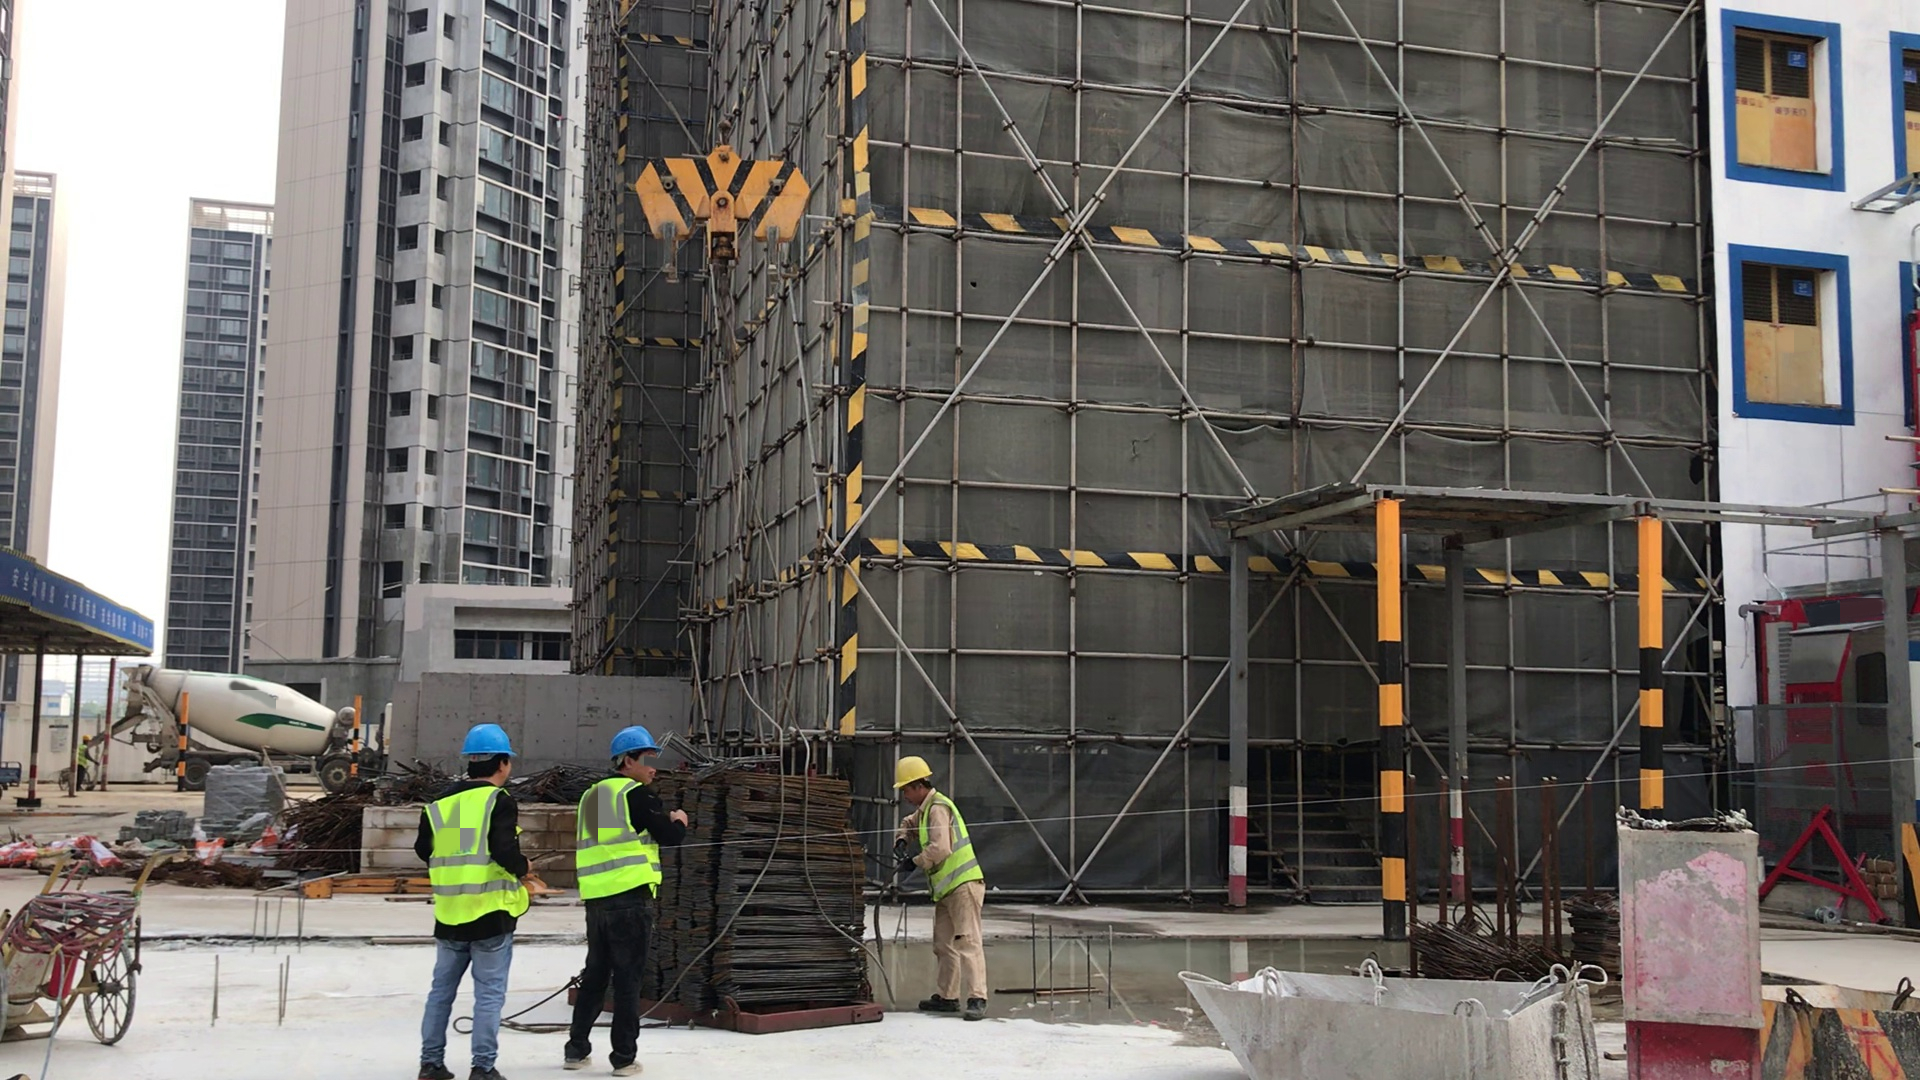handcart: (2, 854, 156, 1054)
helmet: (459, 724, 514, 768), (607, 730, 658, 756), (889, 758, 930, 789), (81, 733, 92, 743)
hook: (630, 148, 815, 269)
hopper: (1170, 957, 1596, 1080), (1760, 972, 1912, 1080)
person: (406, 723, 530, 1080), (564, 727, 688, 1080), (888, 753, 995, 1023), (76, 733, 99, 790)
slogan: (8, 559, 155, 653)
vest: (422, 791, 530, 927), (574, 776, 664, 904), (915, 797, 985, 900), (77, 746, 92, 771)
